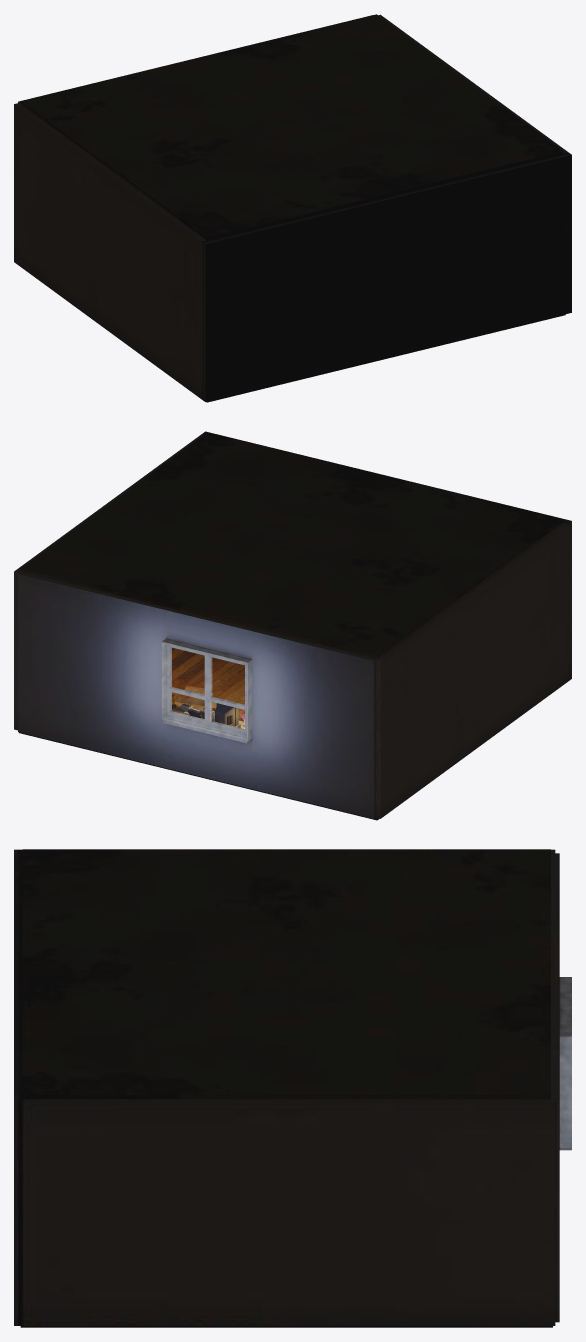
The model's file is sakina-room-r5.glb.
3 views of the same model, one above another, from view 1: azimuth 30°, elevation 25°; view 2: azimuth 150°, elevation 25°; view 3: azimuth 270°, elevation 25° (orthographic). The views are drawn at different scales.
Visible parts, largest first — view 1: Room_Shell; view 2: Room_Shell, Room_Window, Room_Floor; view 3: Room_Shell, Room_Window.
Part boxes in pixels (x1,y1,x2,y2): Room_Shell: [14, 14, 571, 402]; Room_Shell: [14, 431, 571, 820]; Room_Window: [161, 638, 252, 743]; Room_Floor: [172, 647, 244, 721]; Room_Shell: [14, 849, 559, 1327]; Room_Window: [559, 977, 571, 1150].
Size of the model in its own units: 6.8 by 2.91 by 6.34.
12 materials, 12 textured.
